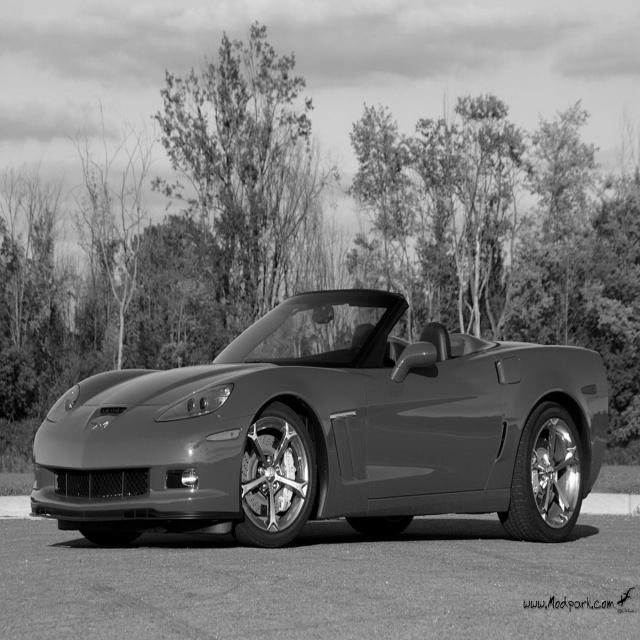car: (30, 288, 609, 548)
